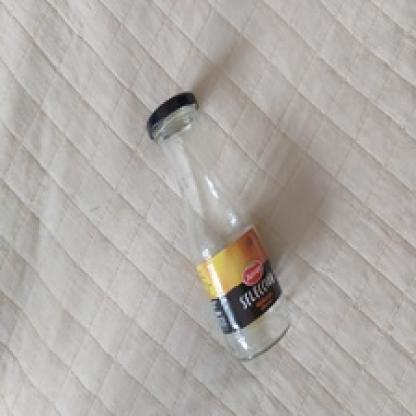Can: (144, 91, 293, 363)
